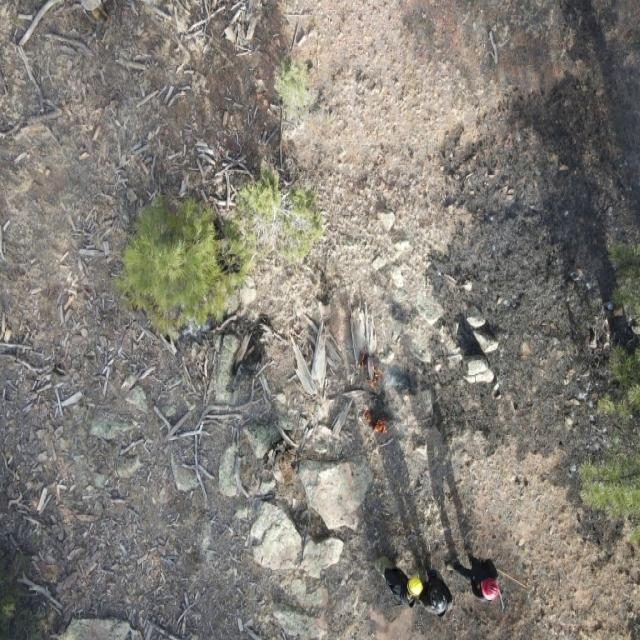fire: (355, 352, 385, 392), (363, 409, 391, 438)
smoke: (336, 310, 429, 440)
